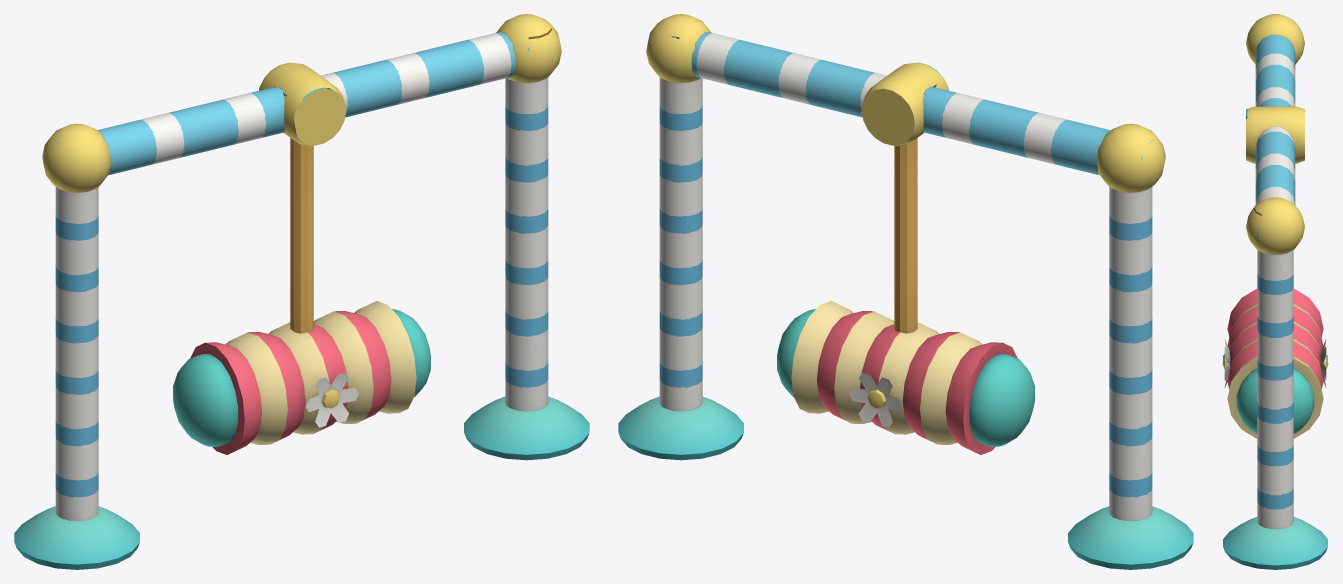
The model's file is dash_pendulum.fbx.
3 views of the same model, side by side, from view 1: azimuth 30°, elevation 25°; view 2: azimuth 150°, elevation 25°; view 3: azimuth 270°, elevation 25° (orthographic). The views are drawn at different scales.
Visible parts, largest first — view 1: dash_pendulum, dash_pendulum_hammer; view 2: dash_pendulum, dash_pendulum_hammer; view 3: dash_pendulum, dash_pendulum_hammer.
Part boxes in pixels (left/top/right/bottom): dash_pendulum: left=14, top=14, right=589, bottom=569; dash_pendulum_hammer: left=173, top=138, right=430, bottom=454; dash_pendulum: left=618, top=14, right=1193, bottom=569; dash_pendulum_hammer: left=777, top=138, right=1034, bottom=454; dash_pendulum: left=1223, top=14, right=1327, bottom=569; dash_pendulum_hammer: left=1222, top=288, right=1328, bottom=438.
Size of the model in its own units: 2740 by 1950 by 538.
Materials: 1 (1 with a texture image).
